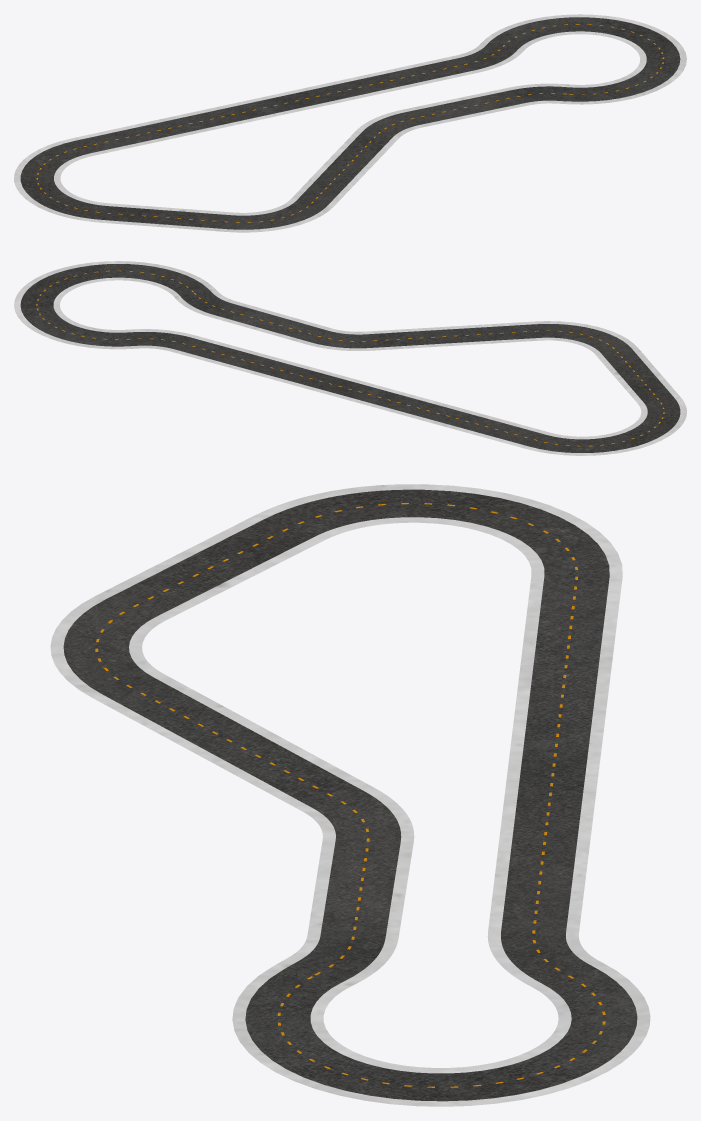
File: RTIS_track_road.dae
The picture shows the model from 3 angles, top to bottom: view 1: azimuth 30°, elevation 25°; view 2: azimuth 150°, elevation 25°; view 3: azimuth 270°, elevation 25°; orthographic projection. The views are drawn at different scales.
Parts seen in each view (by area): view 1: border_curve_inner, inner_border, Plane; view 2: border_curve_inner, inner_border, Plane; view 3: border_curve_inner, inner_border, Plane.
Boxes of the visible parts, box(x1,y1,x2,y2) form: border_curve_inner: box(20, 17, 680, 229); inner_border: box(14, 14, 686, 232); Plane: box(36, 24, 664, 222); border_curve_inner: box(20, 264, 680, 452); inner_border: box(14, 261, 686, 455); Plane: box(36, 270, 664, 446); border_curve_inner: box(63, 489, 637, 1101); inner_border: box(50, 484, 650, 1106); Plane: box(95, 503, 605, 1087).
Bounding box in the file's own units: 339 × 138 × 0.01.
Materials: 3 (3 with a texture image).
